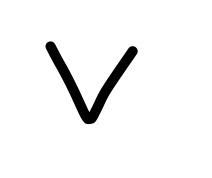t: (81, 42, 144, 136)
